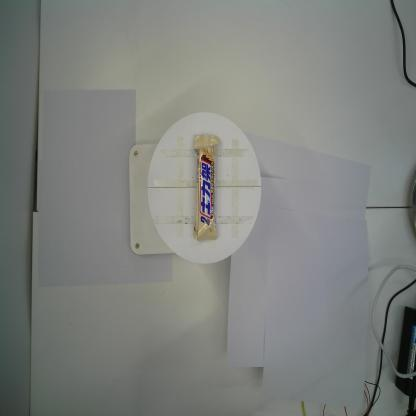Chocolate: (191, 132, 221, 244)
